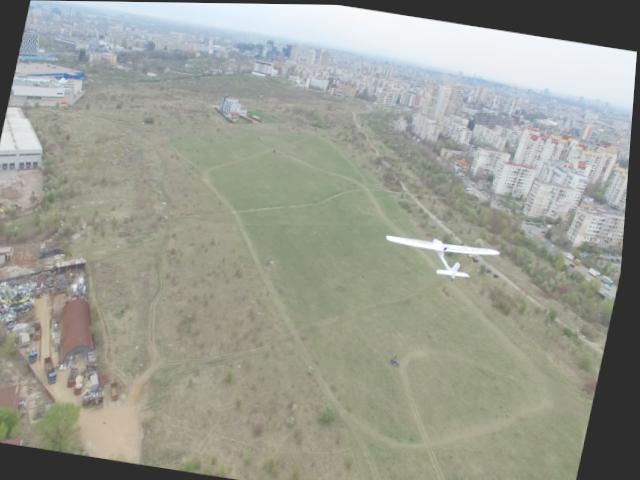plane: (384, 230, 504, 283)
